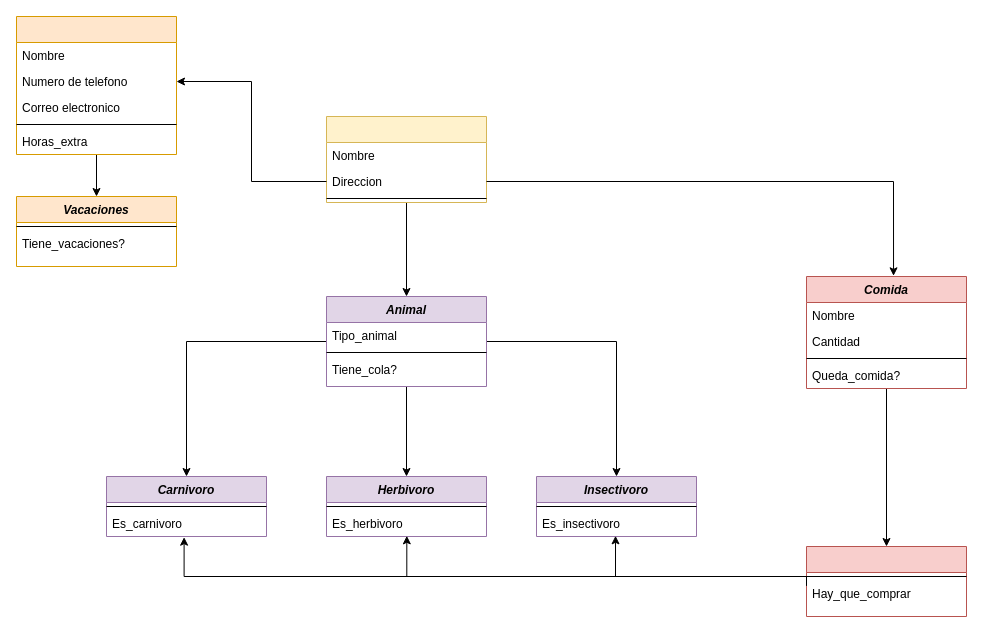
Image size: 983x633. Some labels were removed from this diagram. The box of each missing label's shape, as (x1, y1, x2, y2) in pixels:
Cuidador: (16, 16, 176, 154)
Stock: (806, 546, 966, 616)
Zoo: (326, 116, 486, 202)
